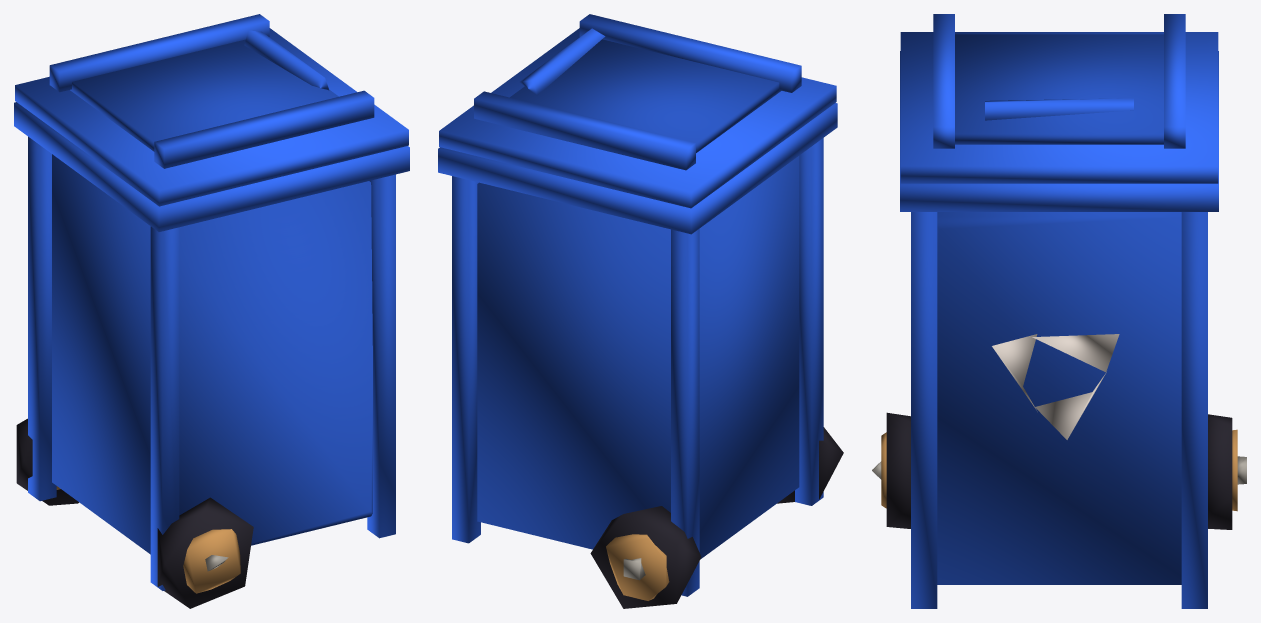
3 views of the same model, side by side, from view 1: azimuth 30°, elevation 25°; view 2: azimuth 150°, elevation 25°; view 3: azimuth 270°, elevation 25° (orthographic). The views are drawn at different scales.
Parts seen in each view (by area): view 1: root_pal_policeBlue, lid_pal_policeBlue, root_pal_uiDark, root_pal_brass; view 2: root_pal_policeBlue, lid_pal_policeBlue, root_pal_uiDark, root_pal_brass; view 3: root_pal_policeBlue, lid_pal_policeBlue, root_pal_uiDark, root_pal_picketWhite, root_pal_brass.
Boxes of the visible parts, left/top/right/bottom form: root_pal_policeBlue: left=14, top=102, right=409, bottom=590; lid_pal_policeBlue: left=15, top=14, right=408, bottom=206; root_pal_uiDark: left=16, top=418, right=253, bottom=608; root_pal_brass: left=56, top=486, right=240, bottom=593; root_pal_policeBlue: left=438, top=103, right=837, bottom=596; lid_pal_policeBlue: left=439, top=14, right=836, bottom=208; root_pal_uiDark: left=590, top=427, right=843, bottom=608; root_pal_brass: left=606, top=534, right=669, bottom=600; root_pal_policeBlue: left=900, top=51, right=1218, bottom=608; lid_pal_policeBlue: left=900, top=14, right=1218, bottom=183; root_pal_uiDark: left=886, top=412, right=1232, bottom=529; root_pal_picketWhite: left=992, top=334, right=1119, bottom=439; root_pal_brass: left=881, top=429, right=1237, bottom=511.
Size of the model in its own units: 0.6371 by 1.11 by 0.7478.
